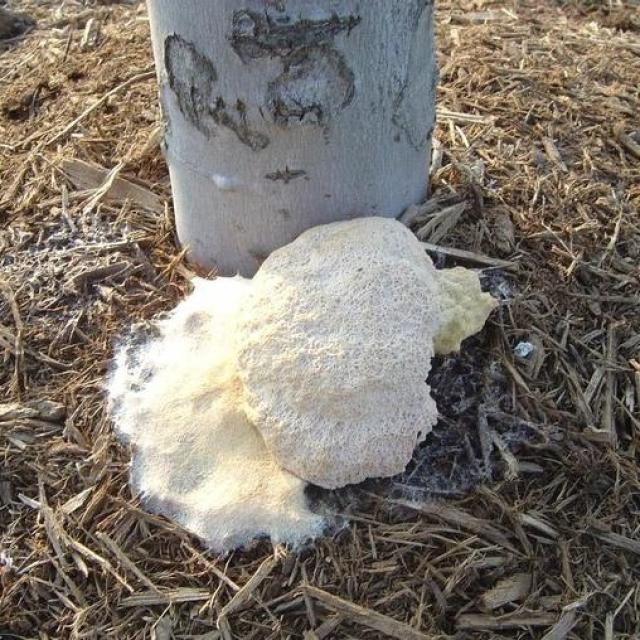Dog_vomit_slime_mold: (84, 223, 502, 558)
